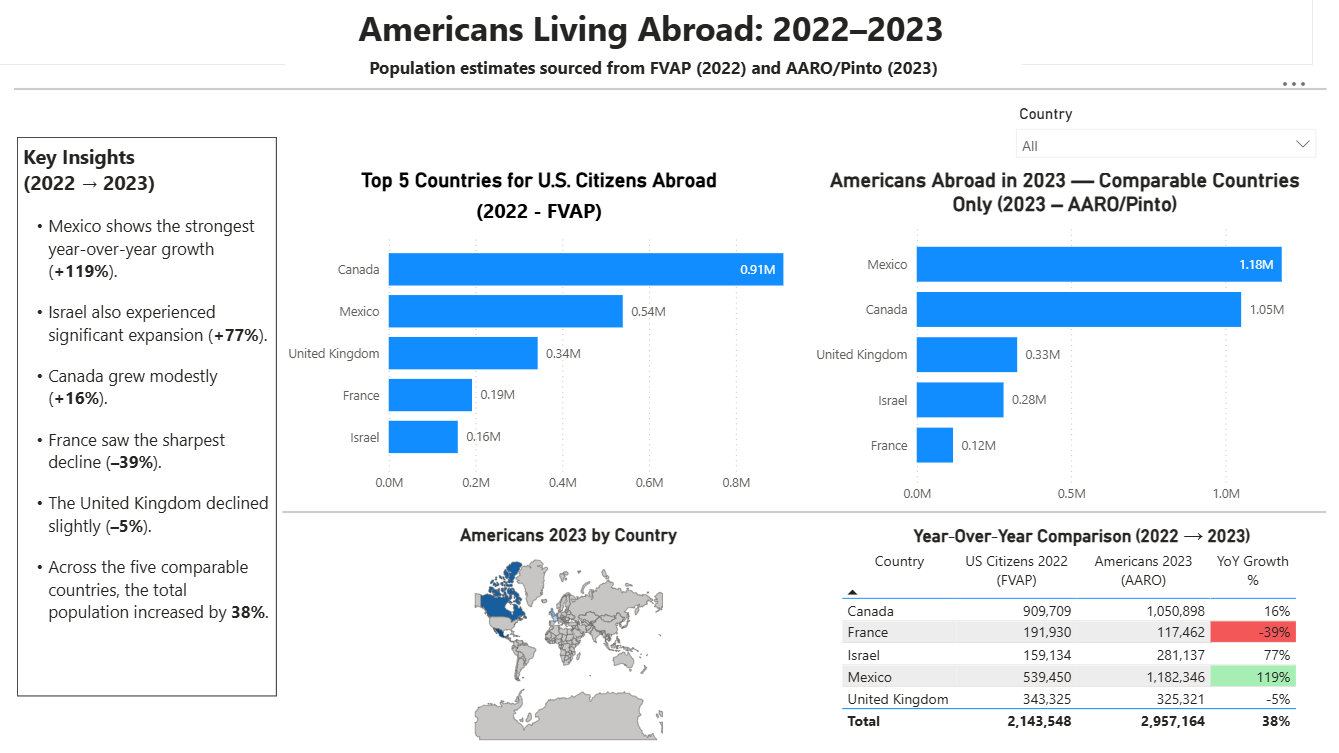

This screenshot's page, from the dashboard's own definition file:
{"tool":"powerbi","page":{"name":"Page 1","canvas":[1280,720],"ordinal":0},"visuals":[{"type":"clusteredBarChart","title":"Top 5 Countries for U.S. Citizens Abroad","fields":{"Category":["FVAP_2022_Country.Country"],"Y":["Sum(FVAP_2022_Country.US Citizens 2022)"]},"box":[262.9,161.4,502.9,317.1],"z":0},{"type":"clusteredBarChart","title":"Americans Abroad in 2023 — Comparable Countries Only (2023 – AARO/Pinto)","fields":{"Category":["AARO_2023_Country.Country"],"Y":["Sum(AARO_2023_Country.Americans 2022)"]},"box":[765.7,161.4,498.6,327.1],"z":1000},{"type":"shapeMap","title":"Americans 2023 by Country","fields":{"Category":["AARO_2023_Country.Country"],"Value":["Sum(AARO_2023_Country.Americans 2023)"]},"box":[320.3,499.7,444.8,219.6],"z":2000},{"type":"textbox","box":[0,0,1251,62.4],"z":3000},{"type":"textbox","box":[272.6,48.5,701.1,37.9],"z":4000},{"type":"shape","box":[14.3,80,1250,11.4],"z":5000},{"type":"textbox","box":[16.5,131.8,247.1,532.6],"z":6000},{"type":"slicer","fields":{"Values":["AARO_2023_Country.Country"]},"box":[958.6,95.7,305.7,70],"z":7000},{"type":"shape","box":[270,478.6,994.3,20],"z":8000},{"type":"tableEx","title":"Year‑Over‑Year Comparison (2022 → 2023)","fields":{"Values":["Country.Country_Clean","Sum(FVAP_2022_Country.US Citizens 2022)","Sum(AARO_2023_Country.Americans 2023)","Measure.Percent Growth"]},"box":[797.3,499.5,468,212.7],"z":9000}]}

Visuals, with their boxes in screenshot pixels (x1, y1, x2, y2), scaled from the page's 1280x720 canvas onto the 1339x753 screenshot:
"Top 5 Countries for U.S. Citizens Abroad" clusteredBarChart: box=[275, 169, 801, 500]
"Americans Abroad in 2023 — Comparable Countries Only (2023 – AARO/Pinto)" clusteredBarChart: box=[801, 169, 1323, 511]
"Americans 2023 by Country" shapeMap: box=[335, 523, 800, 752]
textbox: box=[0, 0, 1309, 65]
textbox: box=[285, 51, 1019, 90]
shape: box=[15, 84, 1323, 96]
textbox: box=[17, 138, 276, 695]
slicer - AARO_2023_Country.Country: box=[1003, 100, 1323, 173]
shape: box=[282, 501, 1323, 521]
"Year‑Over‑Year Comparison (2022 → 2023)" tableEx: box=[834, 522, 1324, 745]
